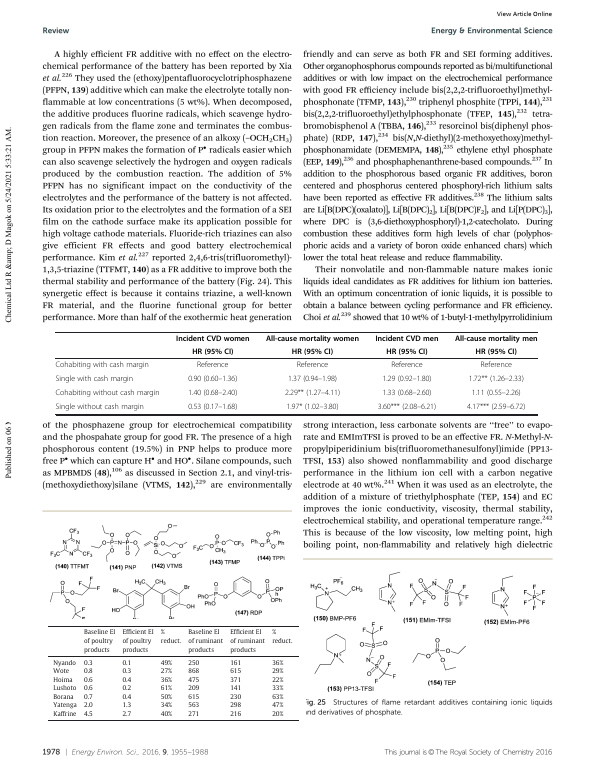borderless: (54, 330, 537, 414), (47, 624, 299, 720)
cell: (54, 388, 160, 398), (54, 360, 150, 370), (187, 629, 224, 654), (229, 629, 266, 654), (55, 402, 145, 412), (265, 334, 360, 343), (83, 629, 116, 654), (122, 629, 155, 654), (54, 374, 134, 384), (454, 334, 538, 343), (175, 334, 250, 343), (377, 402, 437, 412), (466, 402, 526, 412), (374, 334, 439, 343), (468, 374, 525, 384), (284, 388, 341, 398), (285, 402, 339, 412), (187, 374, 238, 384), (287, 374, 338, 384), (381, 374, 432, 384), (187, 388, 238, 398), (381, 388, 432, 398), (471, 388, 522, 398), (187, 402, 238, 412), (191, 347, 234, 357), (291, 347, 334, 357), (385, 347, 428, 357), (475, 347, 518, 357), (271, 629, 294, 645), (160, 629, 182, 645), (390, 360, 424, 370), (479, 360, 513, 370), (196, 360, 229, 370), (296, 360, 329, 370), (52, 710, 78, 719), (52, 684, 77, 693), (52, 702, 78, 710), (52, 659, 77, 667), (52, 693, 75, 701), (52, 676, 74, 684), (52, 667, 70, 676), (160, 667, 173, 676), (187, 667, 200, 676), (229, 667, 242, 676), (271, 667, 284, 676), (160, 684, 173, 693), (187, 684, 200, 693), (229, 684, 242, 693), (271, 684, 284, 693), (160, 710, 173, 719), (187, 710, 200, 719), (229, 710, 242, 719), (271, 710, 284, 719), (160, 659, 173, 667), (187, 659, 200, 667), (229, 659, 242, 667), (271, 659, 284, 667), (160, 676, 173, 684), (187, 676, 200, 684), (229, 676, 242, 684), (271, 676, 284, 684), (160, 693, 173, 701), (187, 693, 200, 701), (229, 693, 242, 701), (271, 693, 284, 701), (160, 702, 173, 710), (187, 702, 200, 710), (229, 702, 242, 710), (271, 702, 284, 710), (83, 667, 94, 676), (83, 684, 94, 693), (83, 710, 94, 719), (122, 667, 132, 676), (122, 684, 132, 693), (122, 710, 132, 719), (83, 659, 94, 667), (83, 676, 94, 684), (83, 693, 94, 701), (83, 702, 94, 710), (122, 659, 132, 667), (122, 676, 132, 684), (122, 693, 132, 701), (122, 702, 132, 710)
